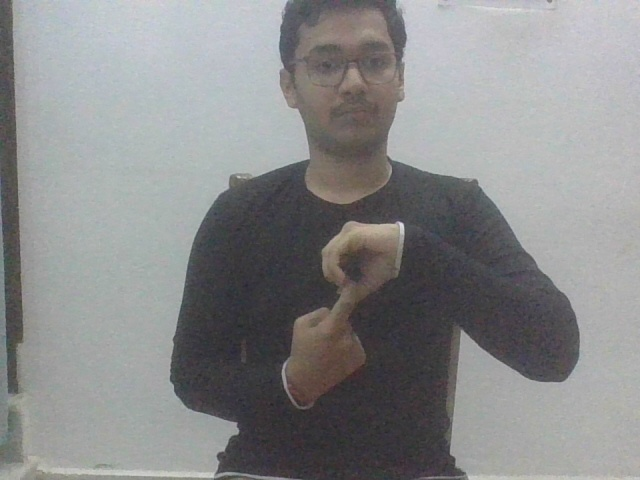Q: (280, 217, 403, 408)
